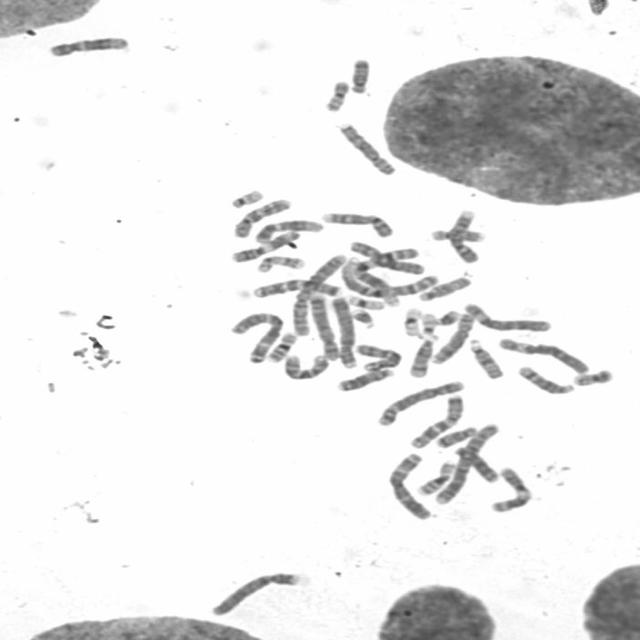A1: (353, 246, 420, 308), (340, 258, 435, 299)
A2: (429, 420, 501, 506), (287, 250, 348, 336)
A3: (384, 449, 436, 521), (225, 307, 288, 364)
B4: (206, 568, 304, 617), (326, 292, 358, 369)
B5: (373, 376, 468, 427), (303, 290, 341, 362)
C10: (227, 194, 293, 239), (279, 350, 333, 381)
C11: (226, 226, 304, 264), (486, 463, 534, 514)
C12: (44, 32, 132, 58), (251, 215, 326, 244)
C6: (493, 333, 592, 375), (458, 299, 556, 333)
C7: (406, 390, 468, 449), (246, 275, 344, 299)
C8: (333, 118, 399, 177), (428, 310, 477, 364)
C9: (316, 208, 396, 239), (444, 206, 482, 264)
D13: (449, 443, 502, 483), (334, 365, 396, 392)
D14: (513, 362, 576, 396), (404, 330, 442, 379)
D15: (414, 271, 476, 302), (464, 335, 506, 380)
E16: (412, 457, 458, 496), (263, 328, 300, 363)
E17: (427, 225, 488, 244), (252, 252, 307, 273)
E18: (432, 422, 480, 449), (346, 54, 374, 94)
F19: (398, 304, 424, 338), (344, 292, 387, 310)
F20: (319, 76, 353, 113), (569, 365, 616, 387)
G21: (348, 305, 377, 329), (432, 306, 463, 326)
G22: (226, 186, 266, 208), (415, 310, 440, 339)
X: (347, 237, 428, 276), (351, 339, 404, 372)
